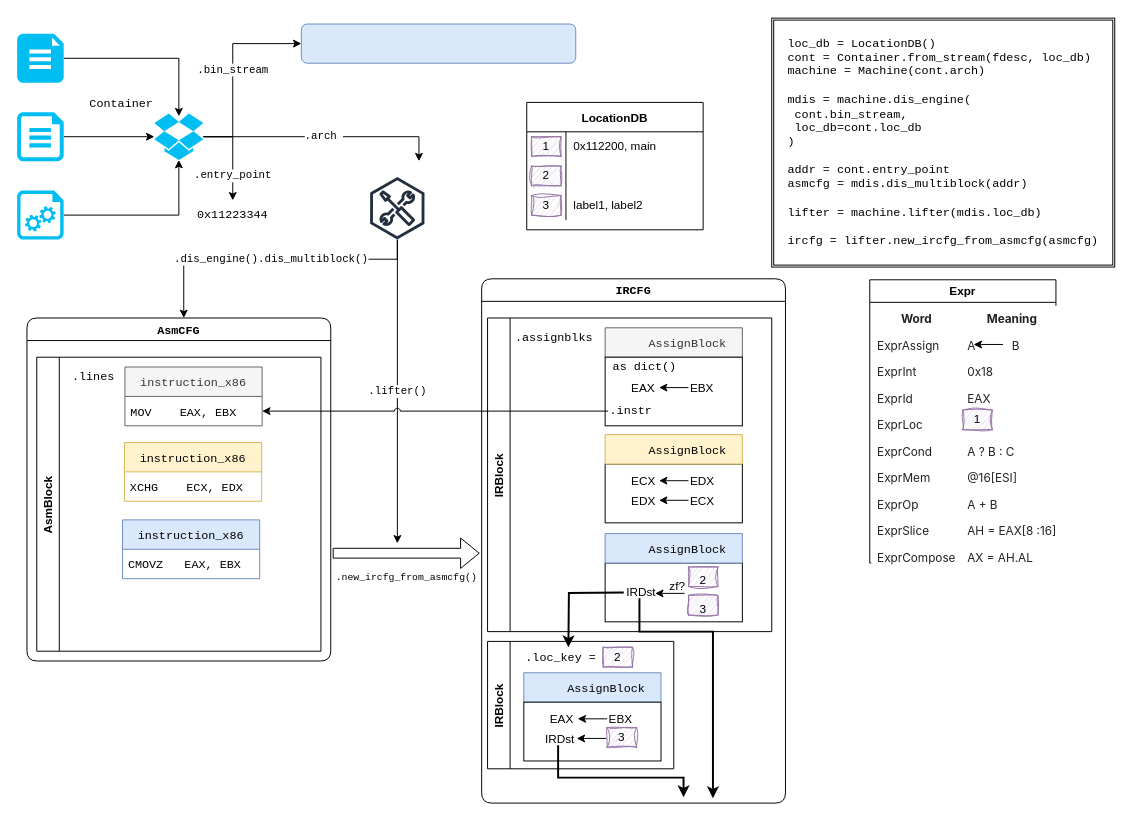
This 1132x824 diagram has some shape labels left out. The shapes that lost their labels are listed below. From the top down, each one's centre as x and y in pixels, then its label:
point (40, 57): PE
point (438, 43): 00000000 4d 5a 90 00 03 ... 00000010 b8 00 00 00 00 ...
point (40, 136): ELF
point (40, 214): Raw
point (396, 207): Machine("x86_32")
